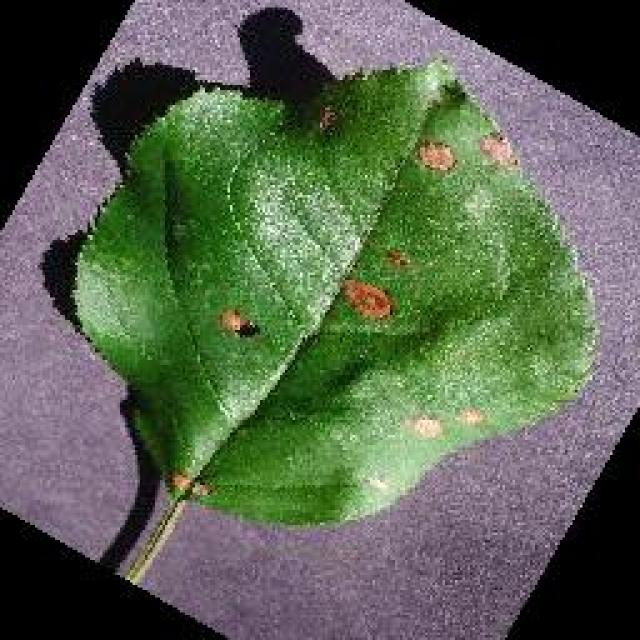Black_rot: (68, 50, 600, 532)
